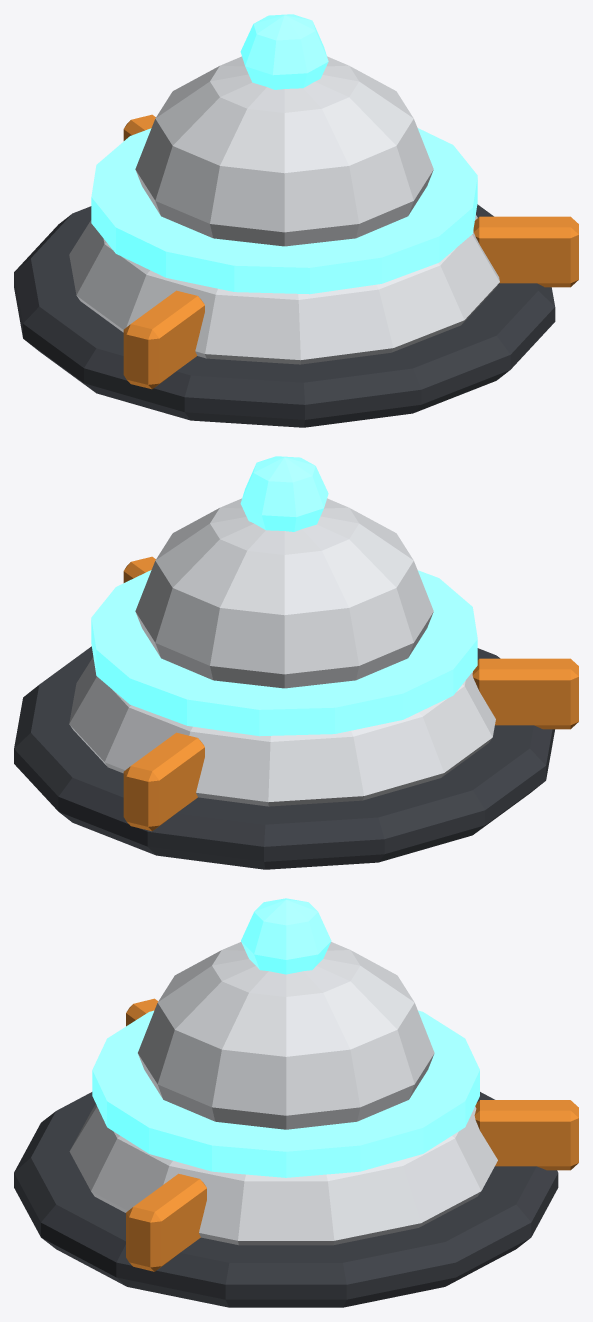
Rendered from shield_generator.glb.
The picture shows the model from 3 angles, top to bottom: view 1: azimuth 30°, elevation 25°; view 2: azimuth 150°, elevation 25°; view 3: azimuth 270°, elevation 25°; orthographic projection.
Visible parts, largest first — view 1: shield_generator; view 2: shield_generator; view 3: shield_generator.
Boxes of the visible parts, x1,y1,x2,y2 form: shield_generator: (14,14,578,427); shield_generator: (14,456,578,869); shield_generator: (14,898,578,1307).
Size of the model in its own units: 0.6435 by 0.405 by 0.685.
